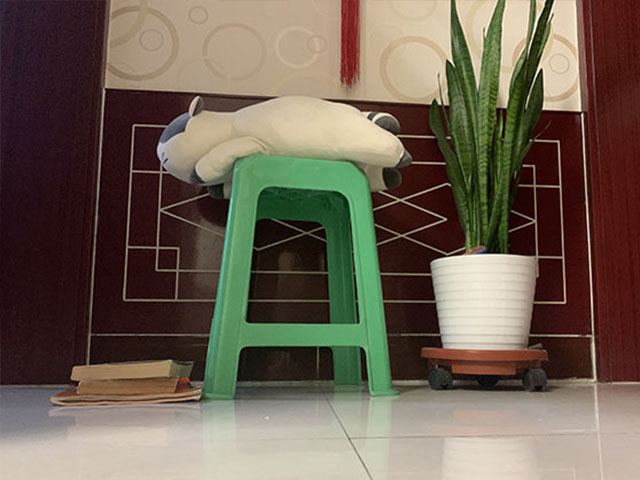book: (48, 358, 204, 404)
stool: (206, 153, 401, 403)
